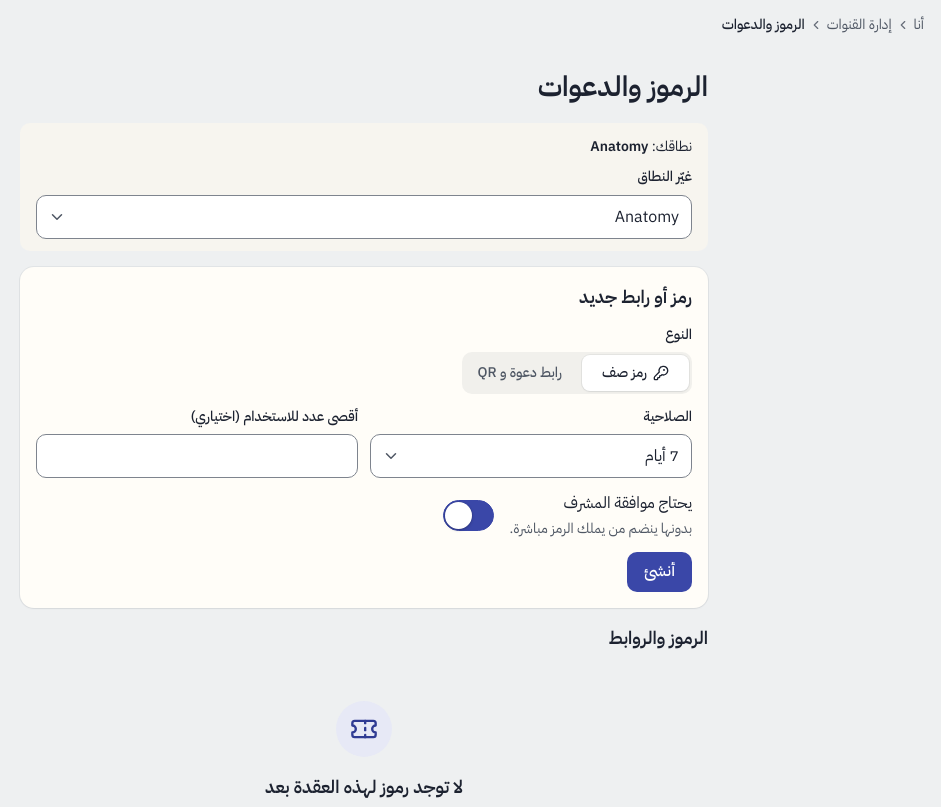
Test: R3 — a new code is shown only under the node it was made for › changing the scope hides the code made for the other node
expect the heading "الرموز والدعوات" is shown: met, box [538,66,708,108]
Step 1. Click the button "أنشئ" → (660, 572), box [627,552,692,592]
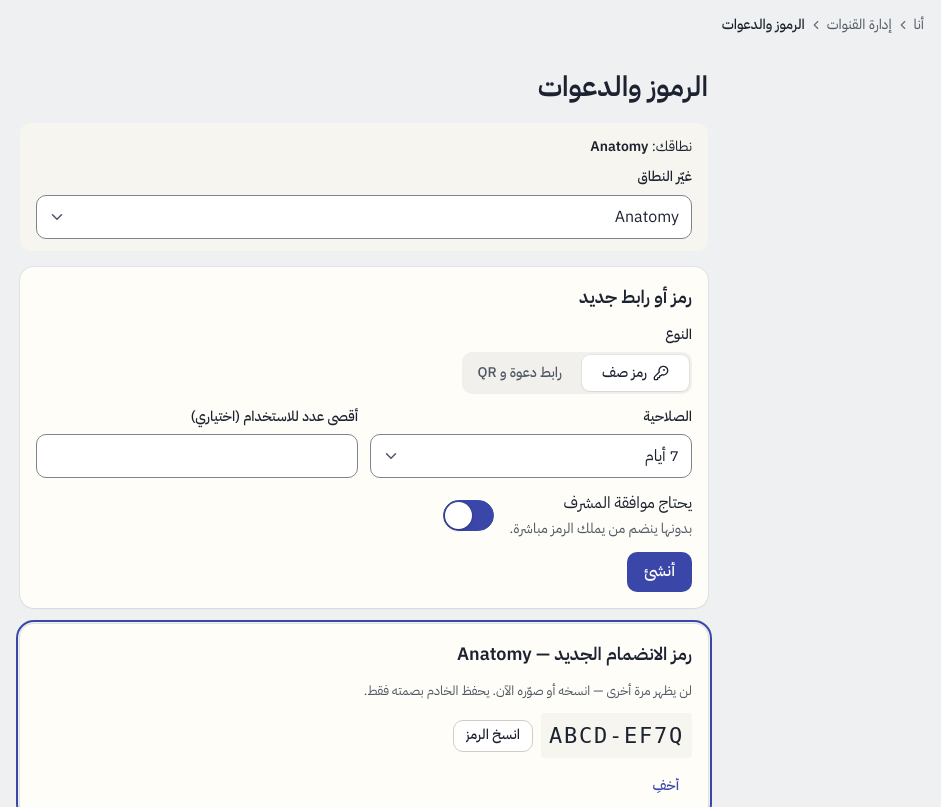
expect the text "ABCD-EF7Q" is shown: met, box [541,713,692,758]
expect the element "رمز الانضمام الجديد" shows "Anatomy": met, box [457,640,532,667]
Step 2. Select "Biochemistry" in the dropdown labelled "غيّر النطاق" → (364, 217), box [36,195,692,239]
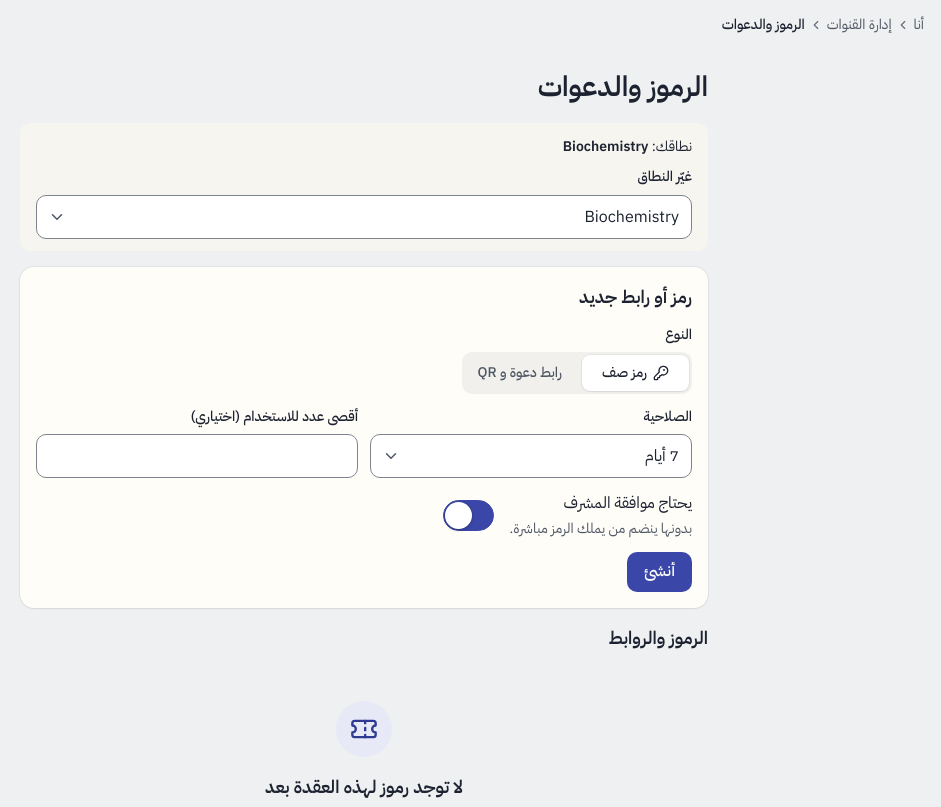
expect the element showing "نطاقك: Biochemistry" is shown: met, box [563,136,692,157]
expect the text "ABCD-EF7Q" is gone: met
